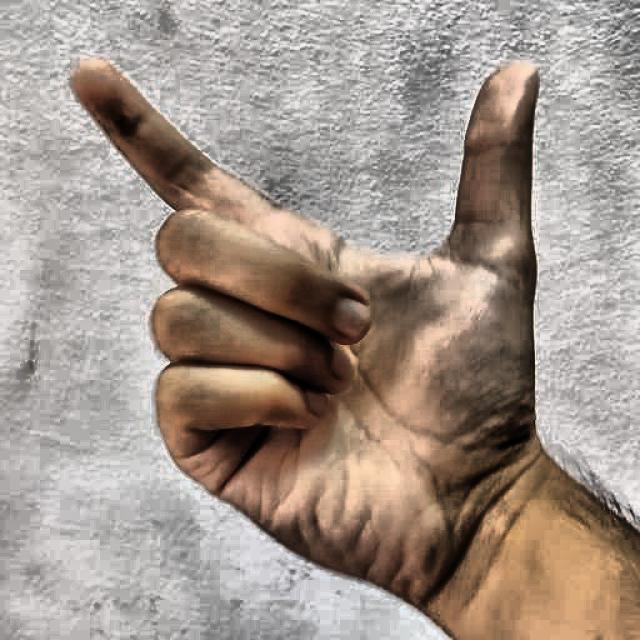ChandraBindu: (52, 14, 574, 617)
